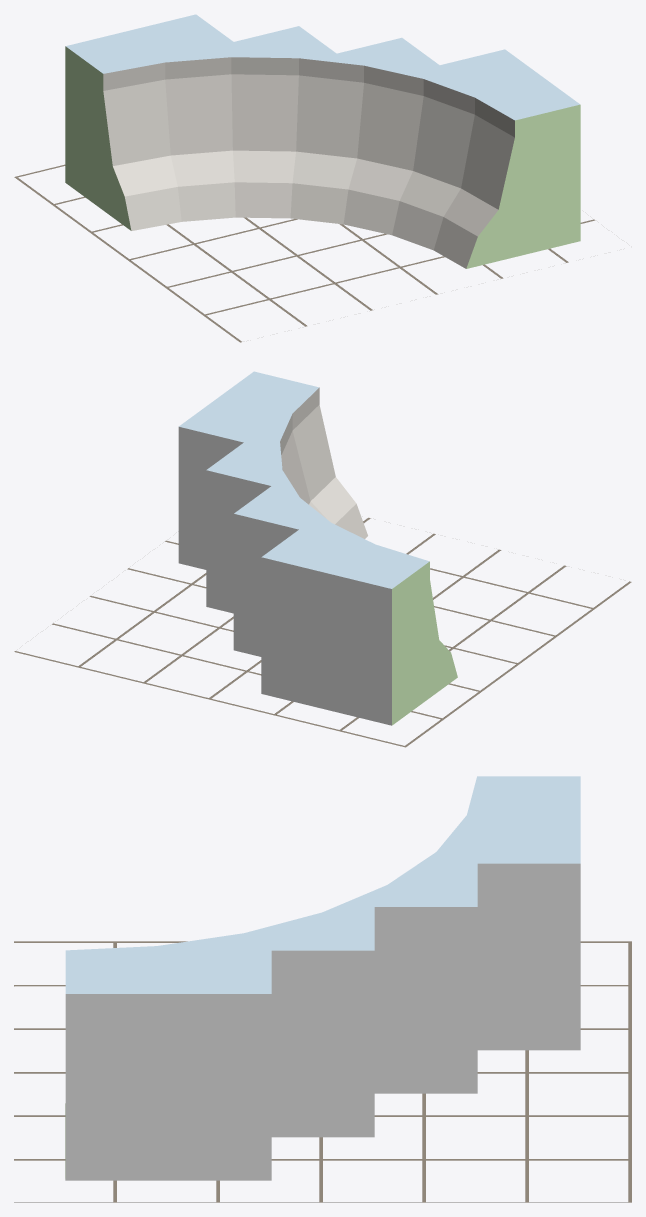
File: Wall_Curve_Inner_5x5_Base.glb
3 renders of one model, top to bottom at view 1: azimuth 30°, elevation 25°; view 2: azimuth 150°, elevation 25°; view 3: azimuth 270°, elevation 25°, orthographic. The views are drawn at different scales.
Parts seen in each view (by area): view 1: Wall_Curve_Inner_5x5_Base, Floor; view 2: Wall_Curve_Inner_5x5_Base, Floor; view 3: Wall_Curve_Inner_5x5_Base, Floor.
Part boxes in pixels (<box>): Wall_Curve_Inner_5x5_Base: <box>65,14,580,268</box>; Floor: <box>14,164,595,342</box>; Wall_Curve_Inner_5x5_Base: <box>178,371,457,725</box>; Floor: <box>14,517,631,747</box>; Wall_Curve_Inner_5x5_Base: <box>65,776,580,1180</box>; Floor: <box>14,941,631,1202</box>.
Bounding box in the file's own units: 600 × 200 × 600.
5 materials, 1 textured.
